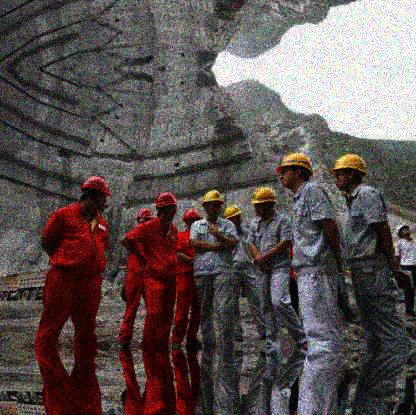helmet: (329, 153, 368, 189), (276, 153, 313, 187), (79, 175, 113, 211), (249, 187, 277, 216), (154, 191, 180, 222), (201, 189, 224, 217), (224, 205, 242, 226), (396, 223, 412, 239)
